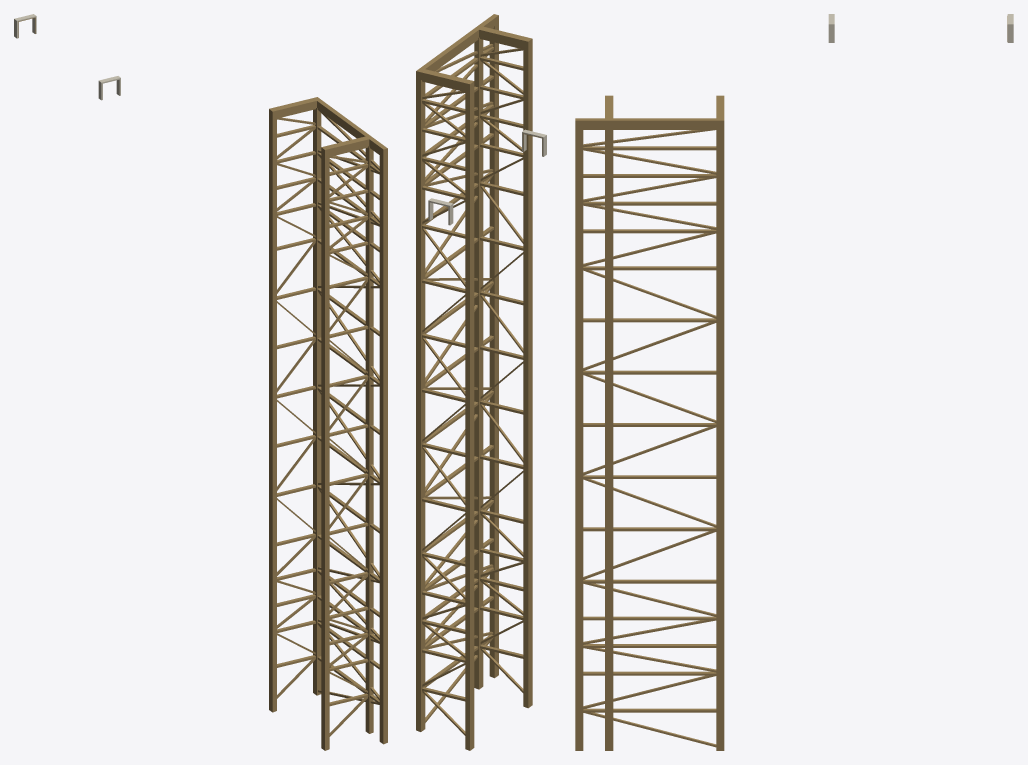
Rendered from AST-RES-005.glb.
3 views of the same model, side by side, from view 1: azimuth 30°, elevation 25°; view 2: azimuth 150°, elevation 25°; view 3: azimuth 270°, elevation 25° (orthographic). The views are drawn at different scales.
Parts seen in each view (by area): view 1: D17_InterfaceBatch_Aft_champagne_metal, D17_InterfaceBatch_Fore_champagne_metal, D17_InterfaceBatch_D17_RoyaltyTransfer_champagne_metal; view 2: D17_InterfaceBatch_Aft_champagne_metal, D17_InterfaceBatch_Fore_champagne_metal, D17_InterfaceBatch_D17_RoyaltyTransfer_champagne_metal, D17_InterfaceBatch_D17_RoyaltyTransverseTransfer_champagne_m, D17_InterfaceBatch_D17_RoyaltyWebRail_09_champagne_metal, D17_InterfaceBatch_D17_RoyaltyWebRail_07_champagne_metal, D17_InterfaceBatch_D17_RoyaltyWebRail_05_champagne_metal, D17_InterfaceBatch_D17_RoyaltyWebRail_06_champagne_metal, D17_InterfaceBatch_D17_RoyaltyWebRail_08_champagne_metal, D17_InterfaceBatch_D17_RoyaltyWebRail_04_champagne_metal, D17_InterfaceBatch_Fore_ivory_enamel, D17_InterfaceBatch_D17_RoyaltyWebBrace_06_champagne_metal (+16 smaller); view 3: D17_InterfaceBatch_Aft_champagne_metal, D17_InterfaceBatch_Fore_champagne_metal, D17_InterfaceBatch_D17_RoyaltyTransfer_champagne_metal.
Boxes of the visible parts, x1,y1,x2,y2 form: D17_InterfaceBatch_Aft_champagne_metal: [321, 136, 387, 742]; D17_InterfaceBatch_Fore_champagne_metal: [18, 17, 321, 703]; D17_InterfaceBatch_D17_RoyaltyTransfer_champagne_metal: [313, 97, 387, 156]; D17_InterfaceBatch_Aft_champagne_metal: [474, 23, 542, 698]; D17_InterfaceBatch_Fore_champagne_metal: [416, 79, 474, 741]; D17_InterfaceBatch_D17_RoyaltyTransfer_champagne_metal: [416, 14, 498, 79]; D17_InterfaceBatch_D17_RoyaltyTransverseTransfer_champagne_m: [421, 69, 474, 91]; D17_InterfaceBatch_D17_RoyaltyWebRail_09_champagne_metal: [425, 226, 493, 279]; D17_InterfaceBatch_D17_RoyaltyWebRail_07_champagne_metal: [425, 335, 493, 388]; D17_InterfaceBatch_D17_RoyaltyWebRail_05_champagne_metal: [425, 445, 493, 497]; D17_InterfaceBatch_D17_RoyaltyWebRail_06_champagne_metal: [425, 390, 493, 443]; D17_InterfaceBatch_D17_RoyaltyWebRail_08_champagne_metal: [425, 281, 493, 333]; D17_InterfaceBatch_D17_RoyaltyWebRail_04_champagne_metal: [425, 499, 493, 552]; D17_InterfaceBatch_Fore_ivory_enamel: [428, 198, 453, 225]; D17_InterfaceBatch_D17_RoyaltyWebBrace_06_champagne_metal: [425, 394, 492, 492]; D17_InterfaceBatch_Aft_champagne_metal: [575, 95, 613, 748]; D17_InterfaceBatch_Fore_champagne_metal: [716, 16, 1007, 748]; D17_InterfaceBatch_D17_RoyaltyTransfer_champagne_metal: [575, 118, 724, 127].
Size of the model in its own units: 30.18 by 107 by 64.65.
Materials: 2 (2 with a texture image).
